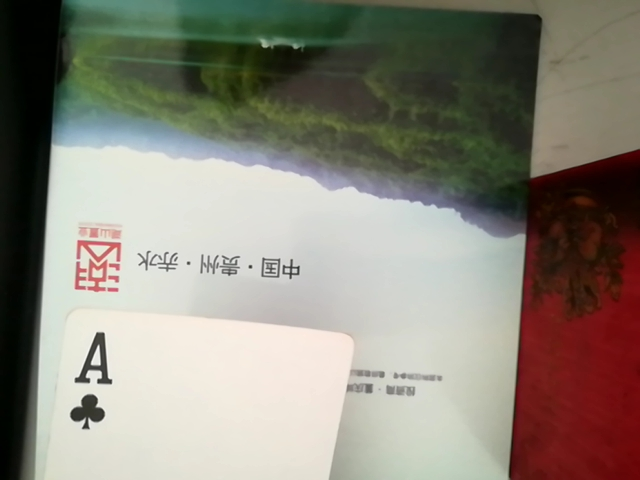mh a: (19, 307, 355, 479)
